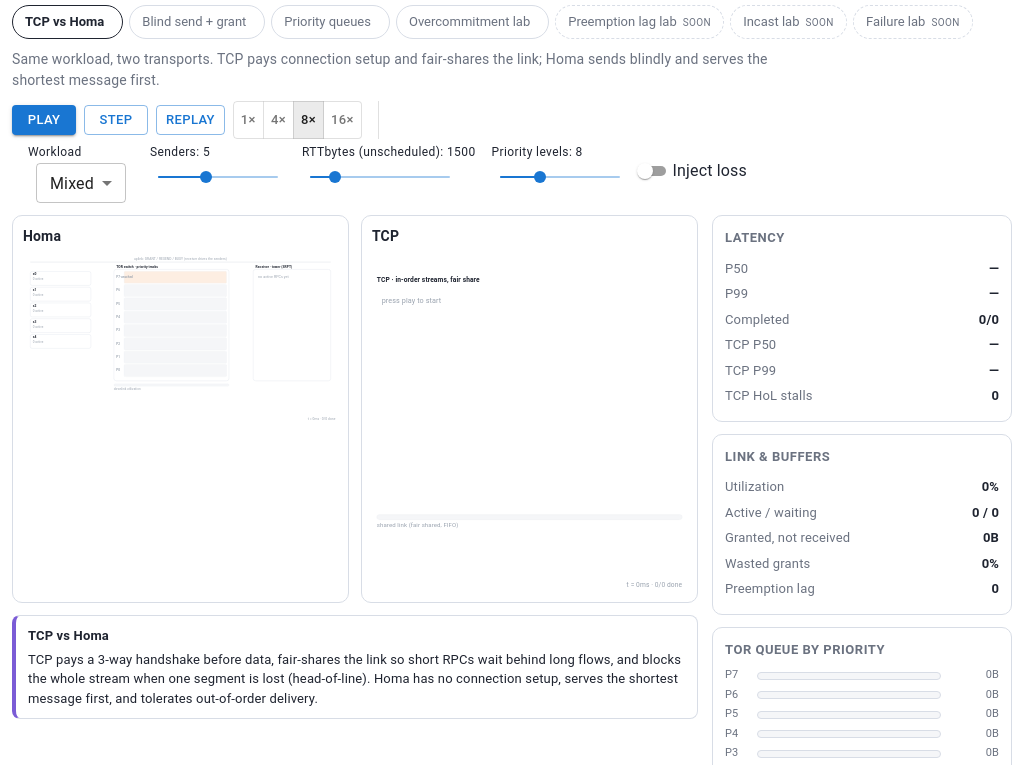
Test: Homa view › exposes the live event log ('why this moved now')
What coordinates should you click on to do the following:
click the tab "Blind send + grant"
I would click on:
 (197, 22)
Its box is [129,5,265,38].
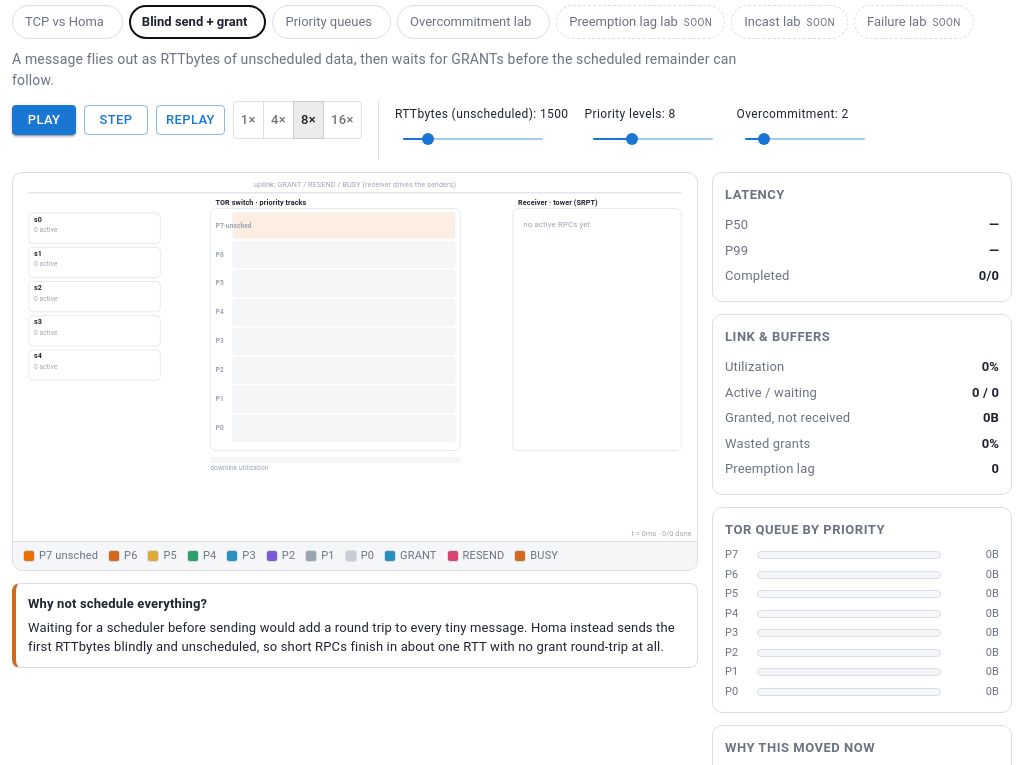
What coordinates should you click on to do the following:
click the button "Step"
I would click on:
 (116, 120)
Its box is [84,104,148,135].
(page scrolled)
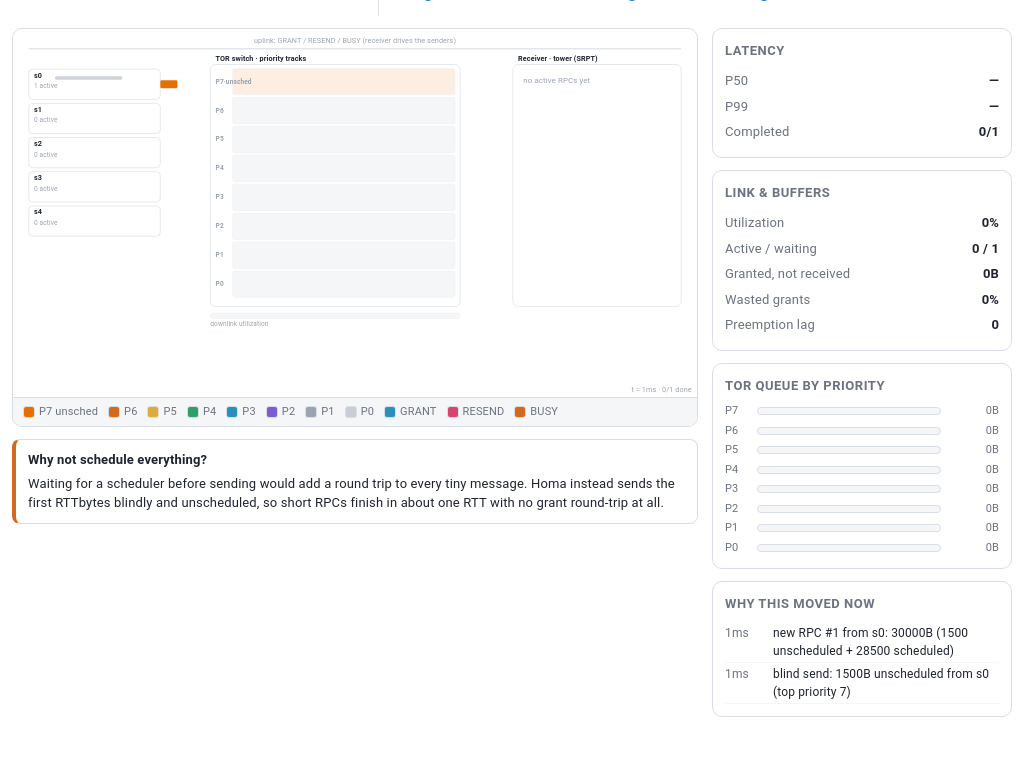
Result: the text "new RPC" is shown at [773,626,968,658]
Result: the text "blind send: 1500B unscheduled from s0 (top priority 7)" is shown at [773,664,999,700]
